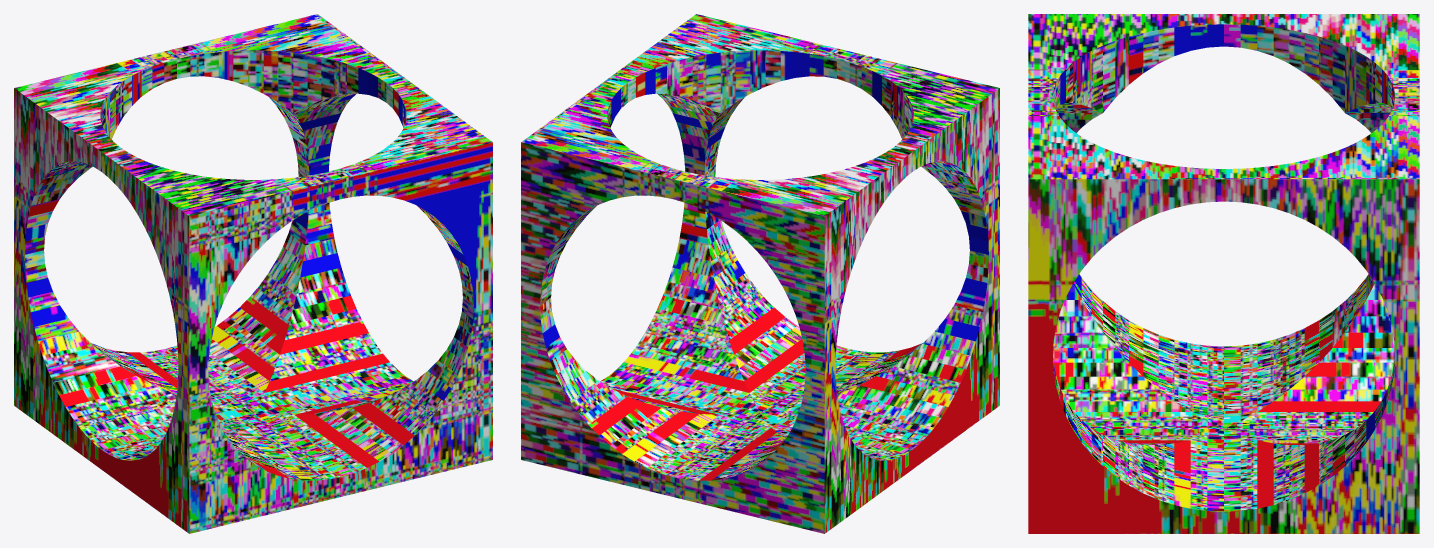
File: fform_10.glb
The picture shows the model from 3 angles, left to right: view 1: azimuth 30°, elevation 25°; view 2: azimuth 150°, elevation 25°; view 3: azimuth 270°, elevation 25°; orthographic projection. The views are drawn at different scales.
Visible parts, largest first — view 1: FFORM_0; view 2: FFORM_0; view 3: FFORM_0.
Boxes of the visible parts, box(x1,y1,x2,y2) form: FFORM_0: box(14, 14, 492, 533); FFORM_0: box(521, 14, 999, 533); FFORM_0: box(1028, 14, 1419, 533).
Bounding box in the file's own units: 4 × 4 × 4.
1 material, 1 textured.
